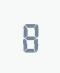eight: (19, 20, 39, 52)
